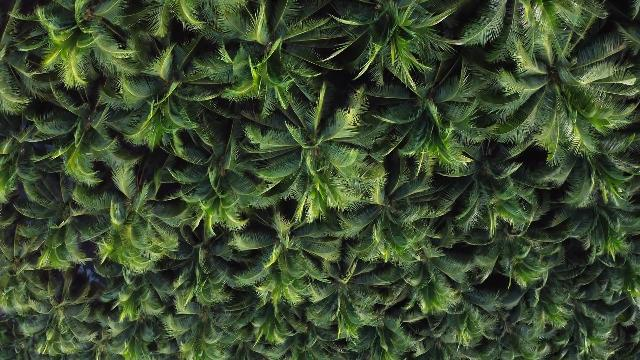trees: (465, 4, 637, 166), (239, 75, 380, 226), (188, 3, 342, 114), (102, 17, 232, 148), (165, 102, 275, 232), (378, 54, 490, 171), (319, 2, 463, 91), (82, 153, 187, 275), (338, 149, 446, 267), (434, 136, 544, 239), (234, 202, 339, 309), (31, 3, 141, 92), (35, 80, 127, 180), (14, 175, 108, 271), (18, 266, 109, 355), (153, 217, 241, 307), (312, 257, 401, 342)
